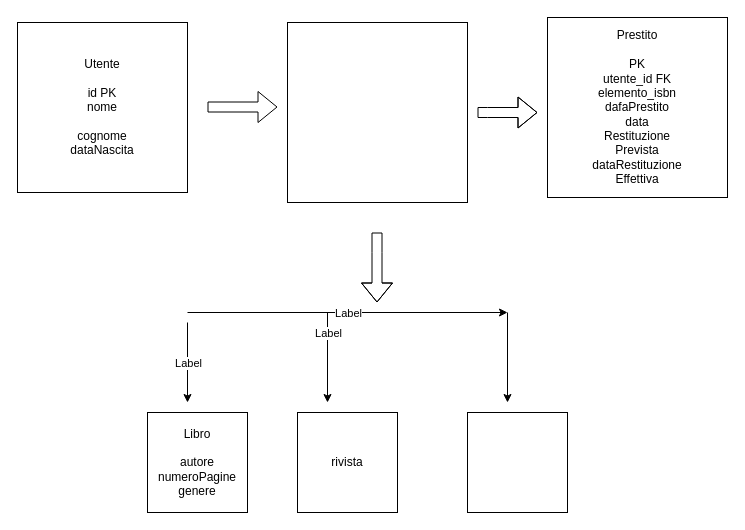
This 745x530 diagram has some shape labels left out. Each missing label, with the centre of its shape:
ElementoCatalogo PK iisbn anno Pubblicazione tipo: the point at 377,112
periodicità: the point at 517,462
